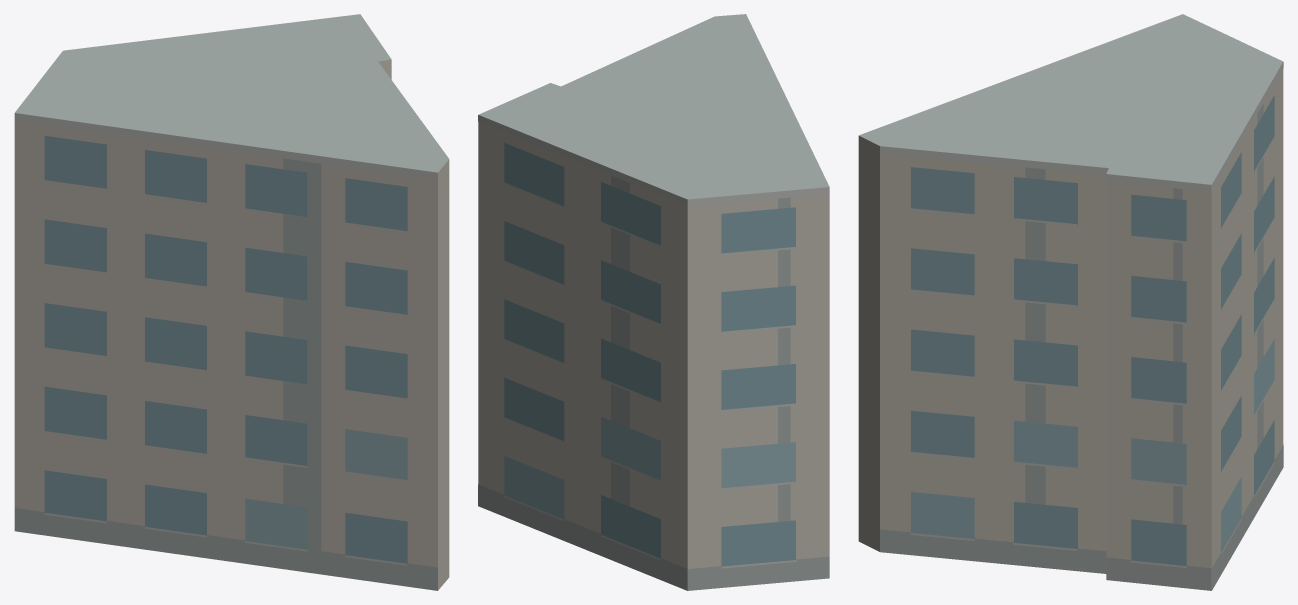
File: survey-upis-32903487.glb
3 views of the same model, side by side, from view 1: azimuth 30°, elevation 25°; view 2: azimuth 150°, elevation 25°; view 3: azimuth 270°, elevation 25° (orthographic). The views are drawn at different scales.
Visible parts, largest first — view 1: survey-upis-32903487.tmp; view 2: survey-upis-32903487.tmp; view 3: survey-upis-32903487.tmp.
Part boxes in pixels (bbox=[...]): survey-upis-32903487.tmp: bbox=[14, 14, 449, 590]; survey-upis-32903487.tmp: bbox=[478, 14, 829, 590]; survey-upis-32903487.tmp: bbox=[858, 14, 1283, 590].
Bounding box in the file's own units: 12.28 × 13.6 × 12.9.
